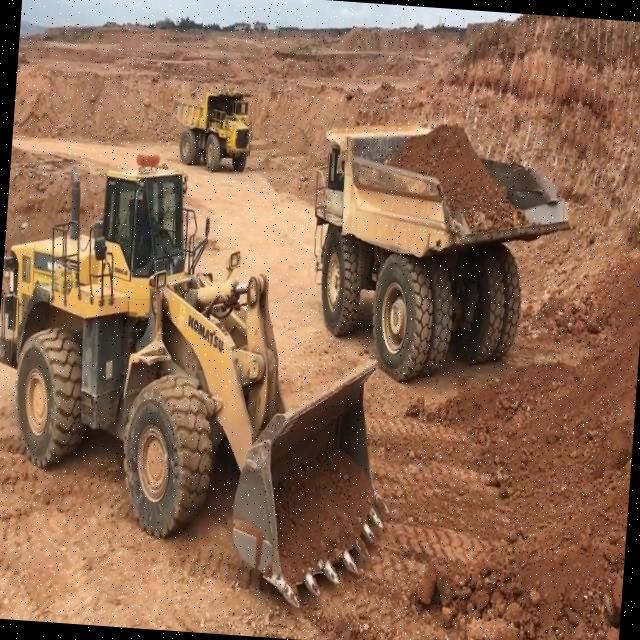Dump Truck: (304, 99, 581, 392), (171, 74, 260, 172)
Loader: (0, 136, 410, 614)
